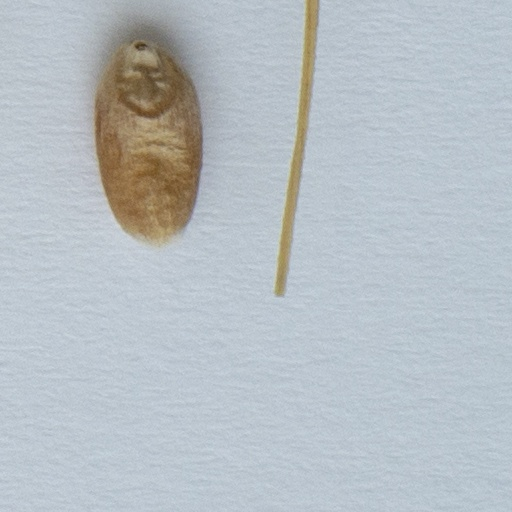Peel-poly: (271, 0, 327, 306)
